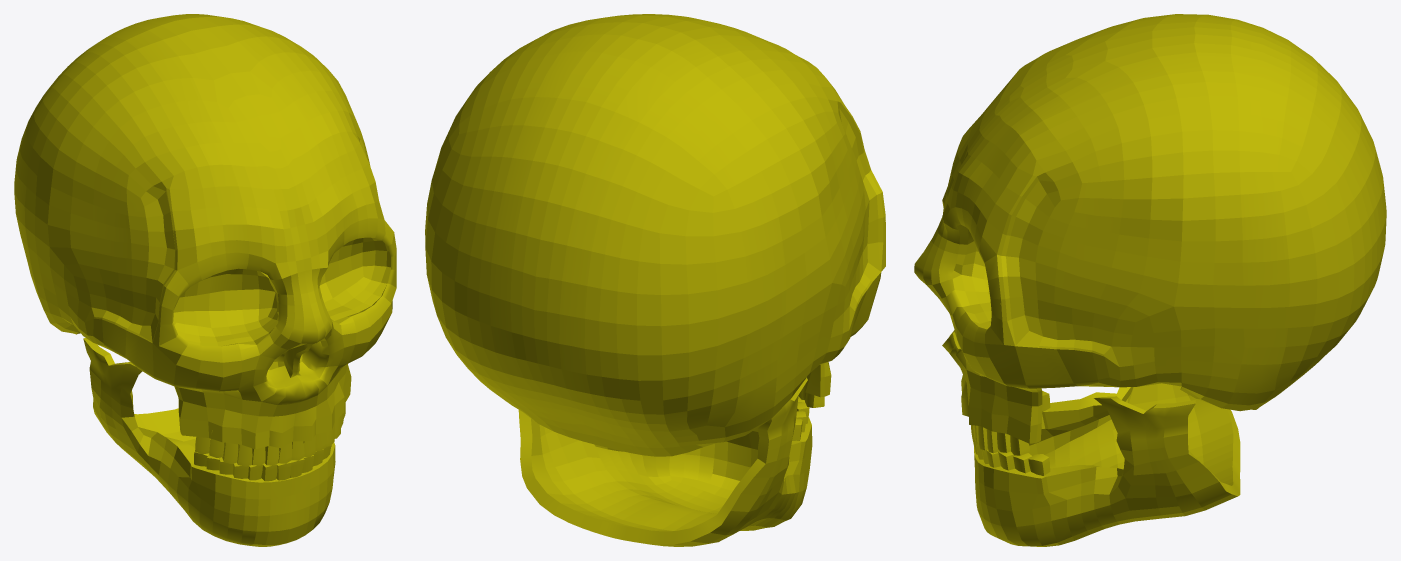
The model's file is skull.glb.
The picture shows the model from 3 angles, left to right: view 1: azimuth 30°, elevation 25°; view 2: azimuth 150°, elevation 25°; view 3: azimuth 270°, elevation 25°; orthographic projection. The views are drawn at different scales.
Visible parts, largest first — view 1: Tengkorak_obj; view 2: Tengkorak_obj; view 3: Tengkorak_obj.
Boxes of the visible parts, bbox=[...] form: Tengkorak_obj: bbox=[14, 14, 396, 546]; Tengkorak_obj: bbox=[425, 14, 885, 546]; Tengkorak_obj: bbox=[914, 14, 1386, 546].
Bounding box in the file's own units: 0.8371 × 1.19 × 1.02.
